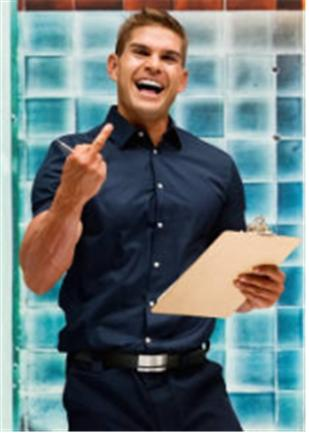insulting_gesture: (48, 124, 119, 214)
